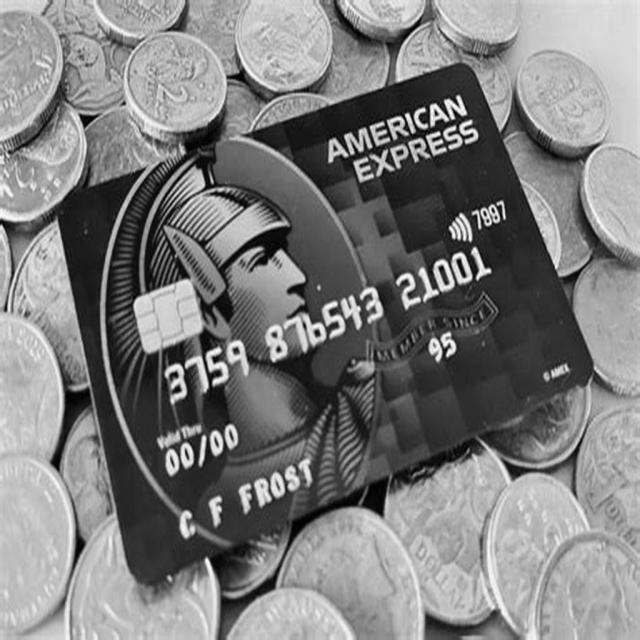card: (48, 60, 602, 584)
